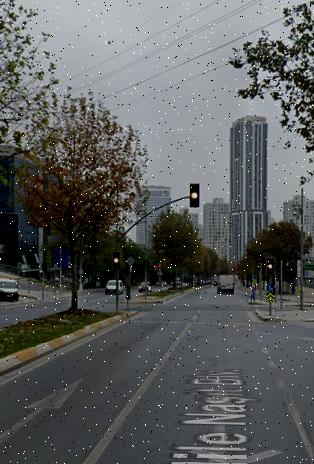yellowlight: (190, 184, 199, 206), (267, 257, 274, 274), (114, 252, 120, 269)
